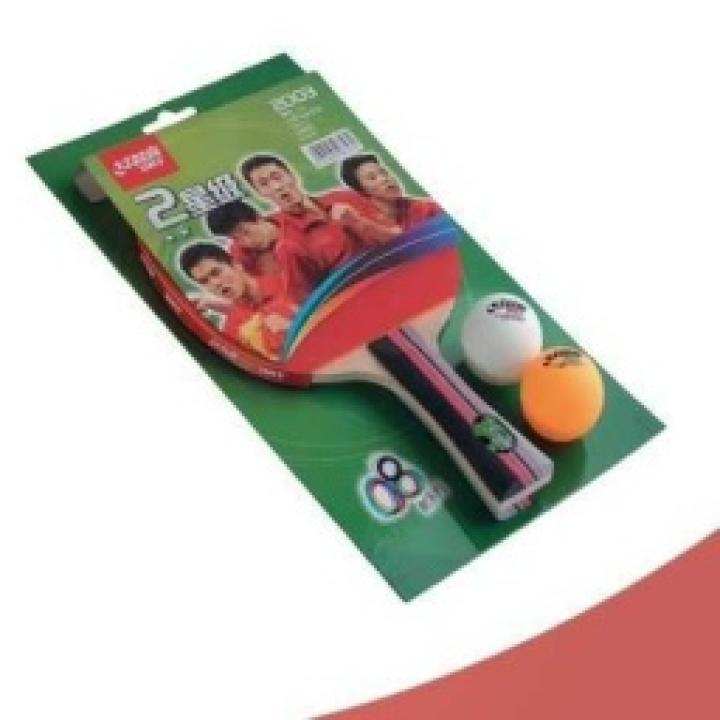orange: (521, 343, 606, 446)
white: (463, 292, 544, 386)
